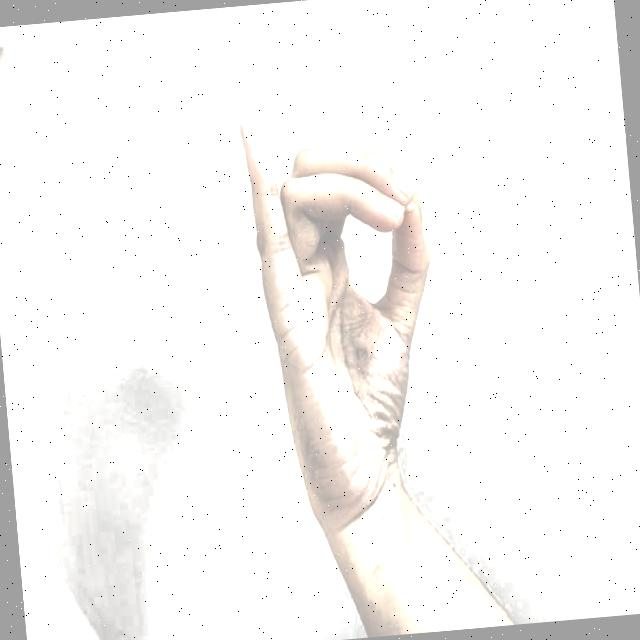Ou: (210, 70, 470, 540)
